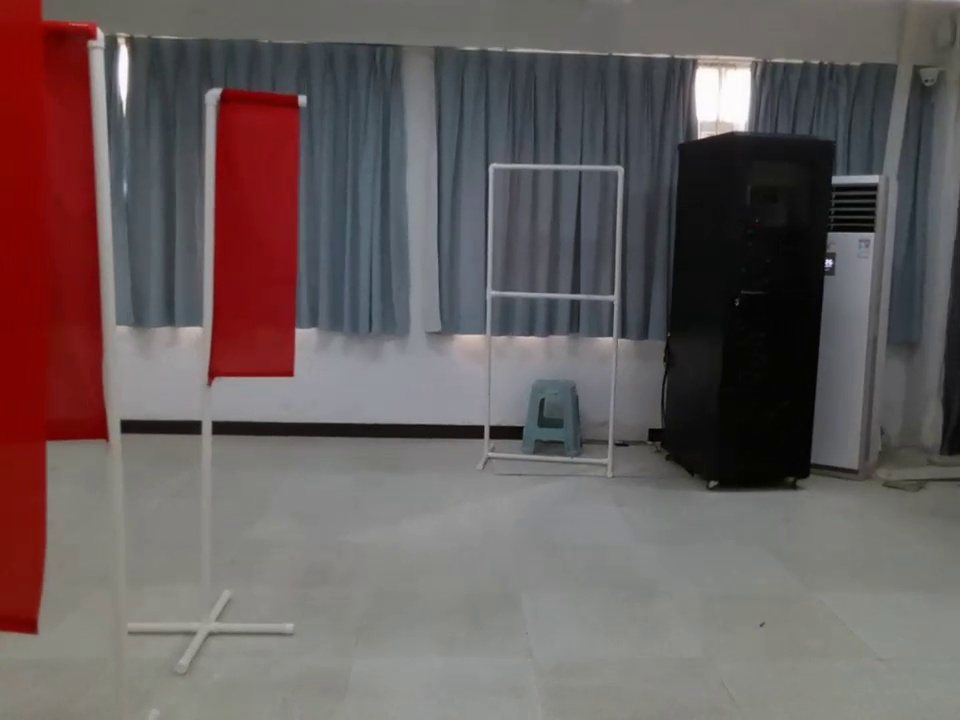qi: (193, 85, 311, 406)
